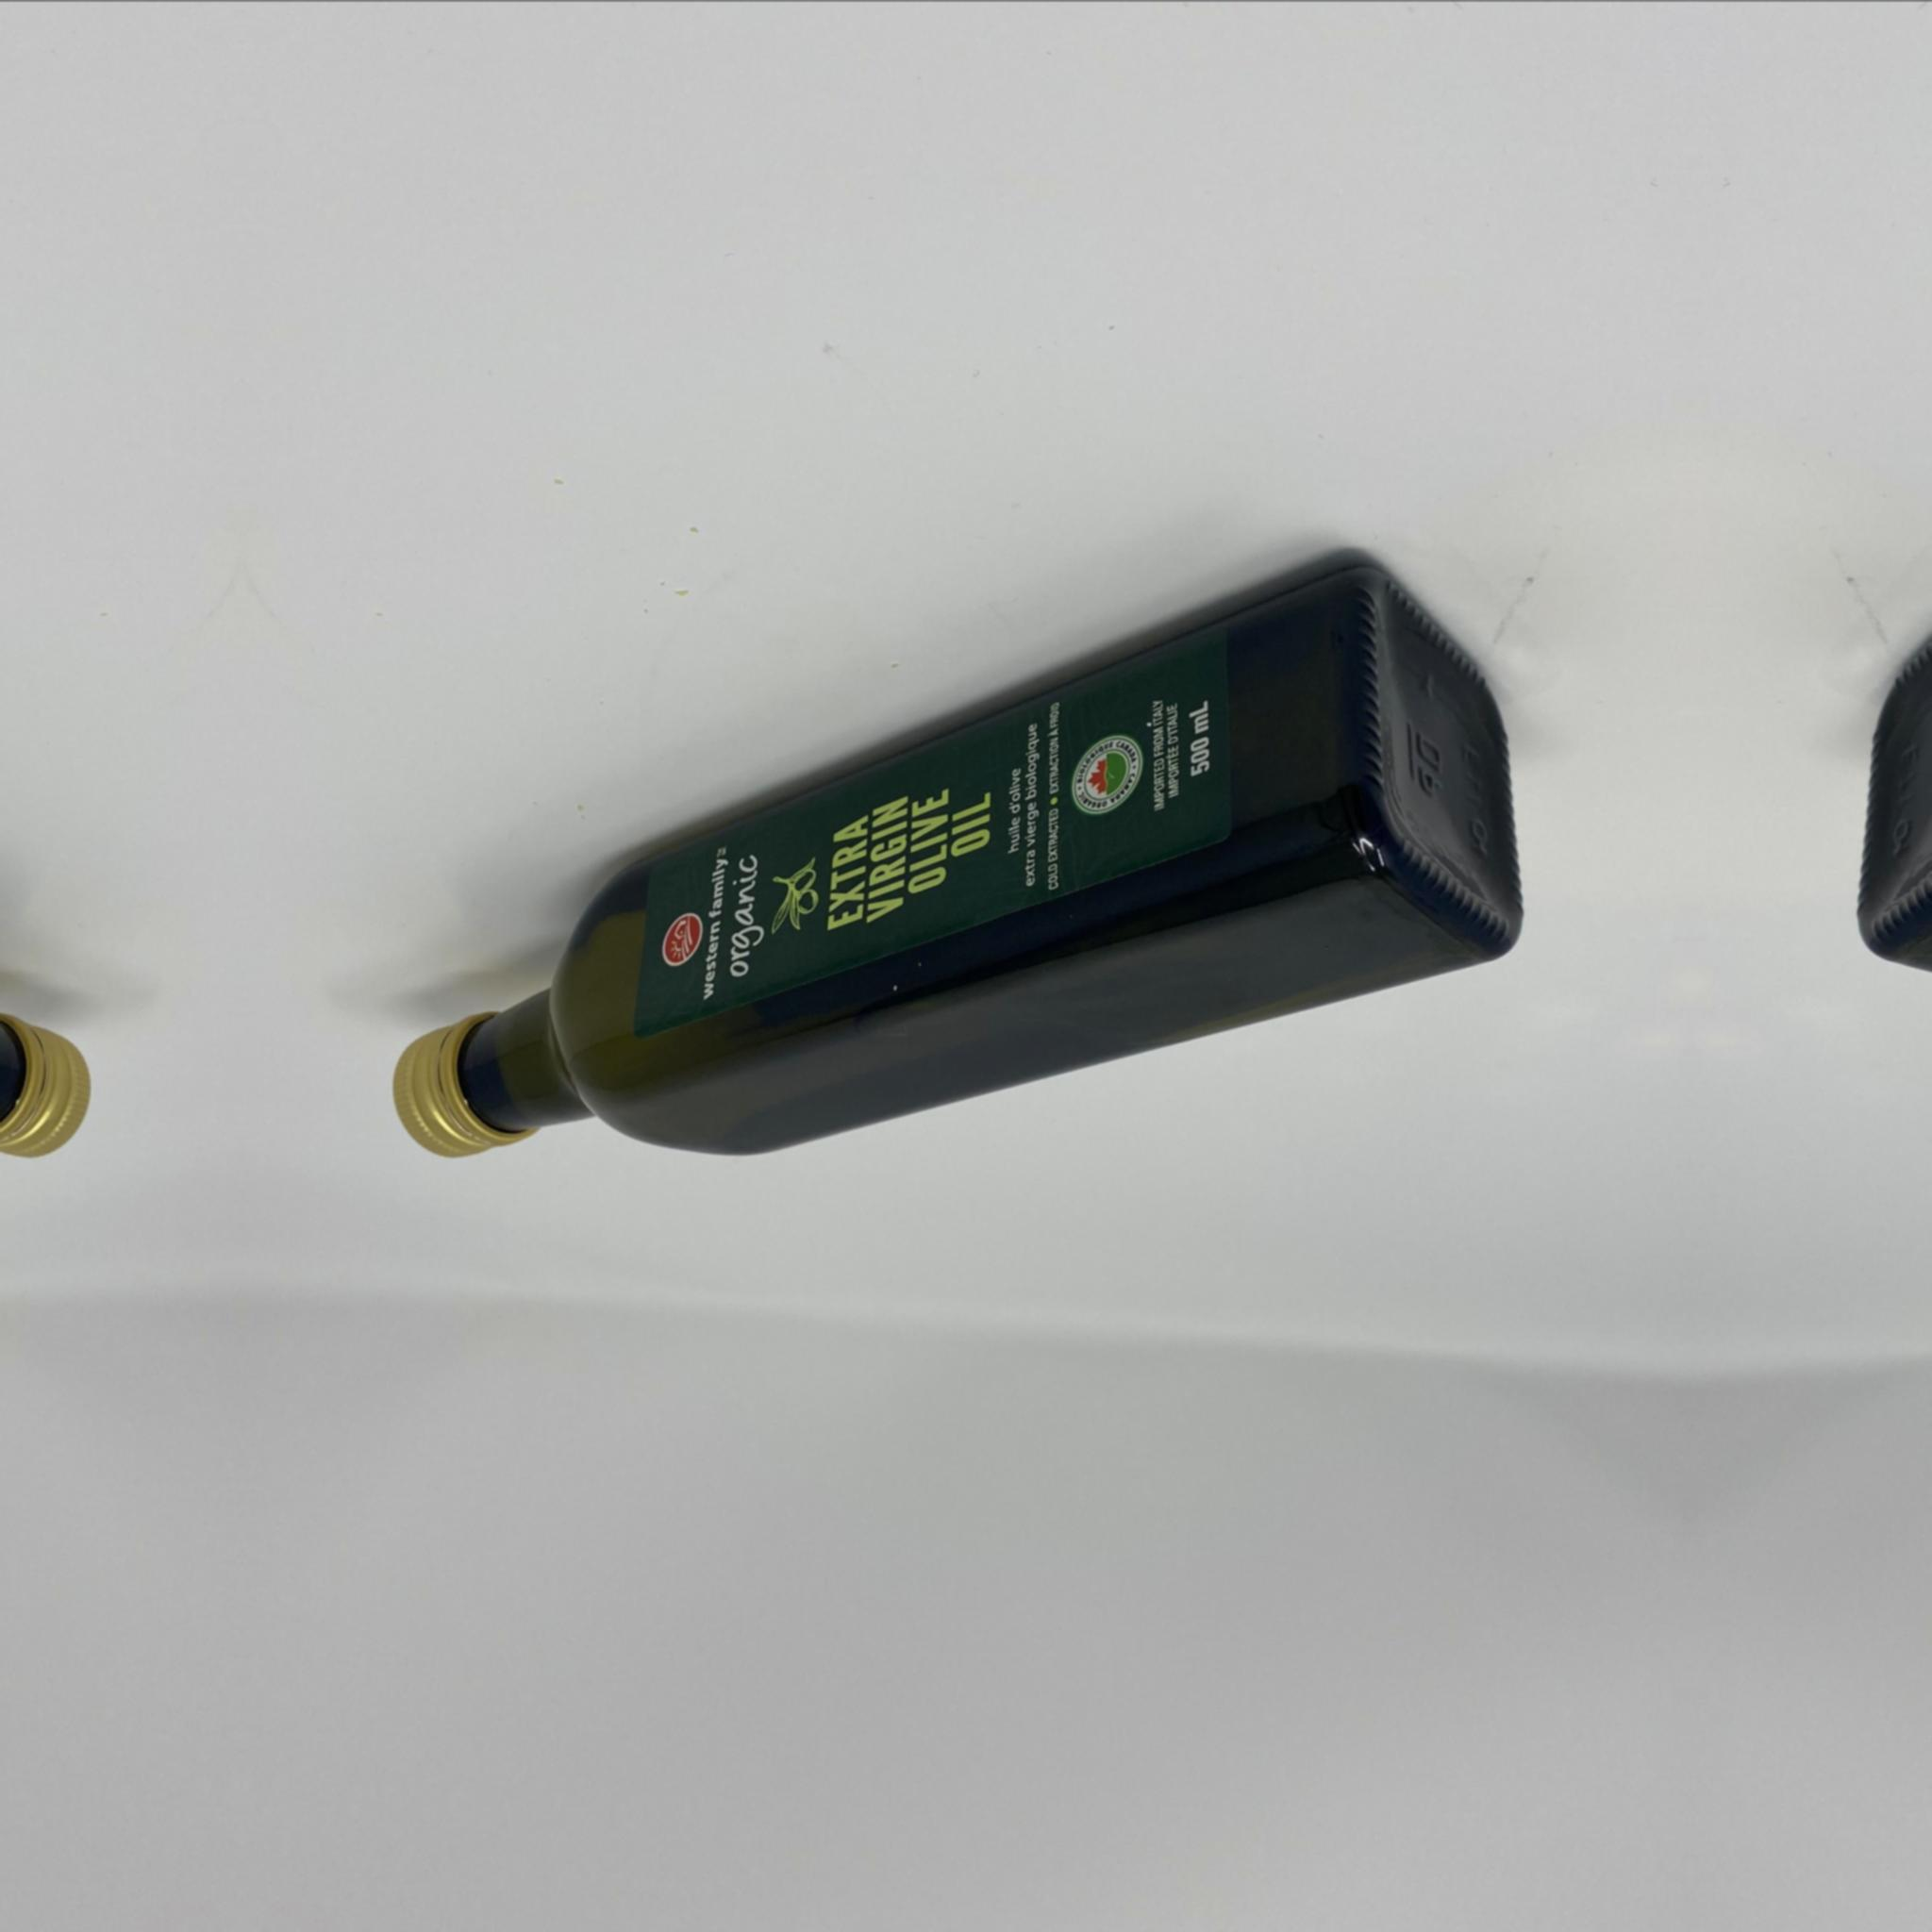glass: (387, 559, 1523, 1162)
oil: (387, 559, 1523, 1162)
sodocalcique: (387, 559, 1523, 1162)
